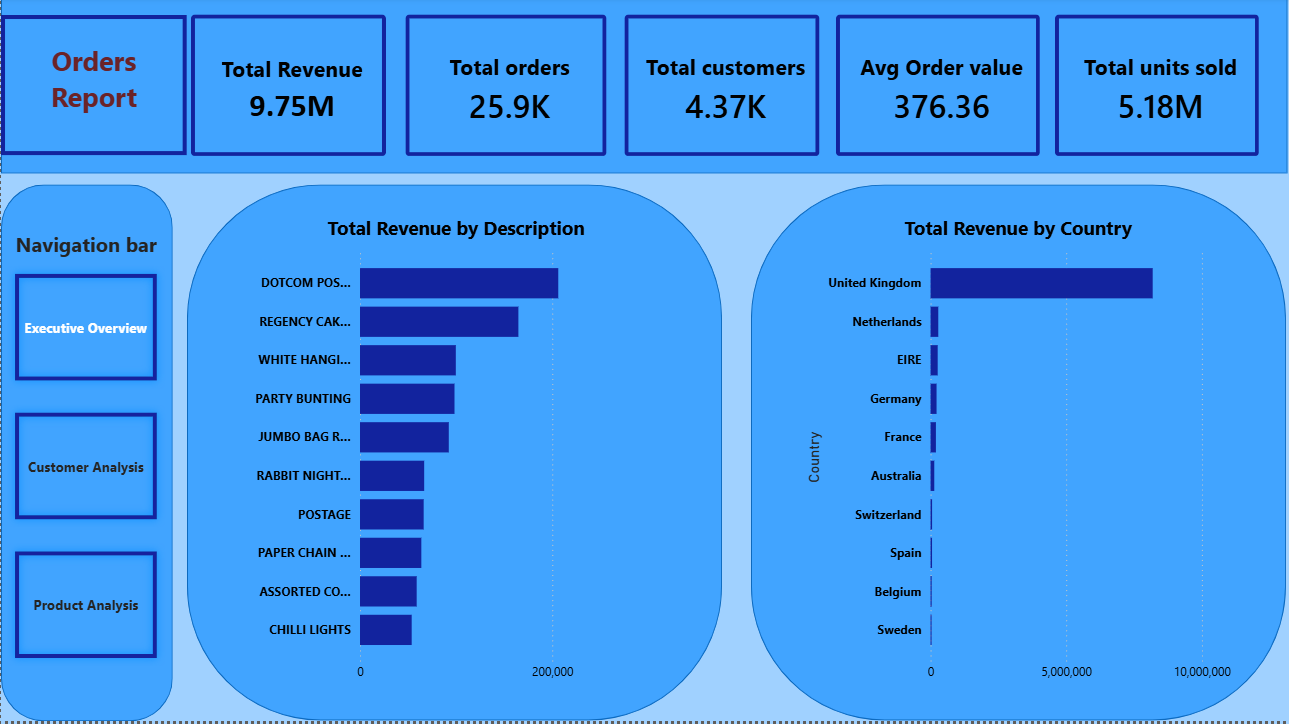

Layout of this report page (visuals, bound fields, positions):
{"tool":"powerbi","page":{"name":"Executive Overview","canvas":[1280,720],"ordinal":0},"visuals":[{"type":"shape","box":[0,0,1279.5,175.6],"z":0},{"type":"textbox","box":[0,18.2,184.7,139.3],"z":1000},{"type":"cardVisual","fields":{"Data":["orders.total_revenue"]},"box":[171.1,0,228.6,175.6],"z":2000},{"type":"cardVisual","fields":{"Data":["orders.total_orders"]},"box":[384.6,0,234.7,175.6],"z":3000},{"type":"cardVisual","fields":{"Data":["orders.total_customers"]},"box":[602.7,0,228.6,175.6],"z":4000},{"type":"cardVisual","fields":{"Data":["orders.avg_order_value"]},"box":[813.1,0,237.7,175.6],"z":5000},{"type":"cardVisual","fields":{"Data":["orders.total_units_sold"]},"box":[1031.2,0,237.7,175.6],"z":6000},{"type":"shape","box":[0,186.3,170.8,533.9],"z":7000},{"type":"shape","box":[184.8,186.7,532,533],"z":8000},{"type":"shape","box":[746,186.7,532,533],"z":9000},{"type":"barChart","title":"Total Revenue by Description","fields":{"Category":["orders.Description"],"Y":["orders.total_revenue"]},"box":[235.4,216.9,433.8,472.7],"z":10000},{"type":"clusteredBarChart","title":"Total Revenue by Country","fields":{"Category":["orders.Country"],"Y":["orders.total_revenue"]},"box":[794.7,216.9,432.8,472.7],"z":11000},{"type":"pageNavigator","title":"Navigation bar","box":[6.1,233.2,157.5,434.6],"z":11001}]}

Visuals, with their boxes in screenshot pixels (x1, y1, x2, y2), scaled from the page's 1280x720 canvas onto the 1289x724 screenshot:
shape: 0:0:1288:177
textbox: 0:18:186:158
cardVisual - orders.total_revenue: 172:0:403:177
cardVisual - orders.total_orders: 387:0:624:177
cardVisual - orders.total_customers: 607:0:837:177
cardVisual - orders.avg_order_value: 819:0:1058:177
cardVisual - orders.total_units_sold: 1038:0:1278:177
shape: 0:187:172:723
shape: 186:188:722:723
shape: 751:188:1287:723
"Total Revenue by Description" barChart: 237:218:674:693
"Total Revenue by Country" clusteredBarChart: 800:218:1236:693
"Navigation bar" pageNavigator: 6:234:165:672
